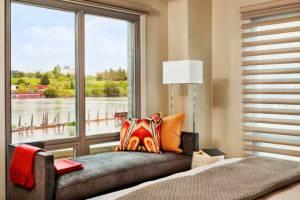window: (7, 0, 146, 136)
